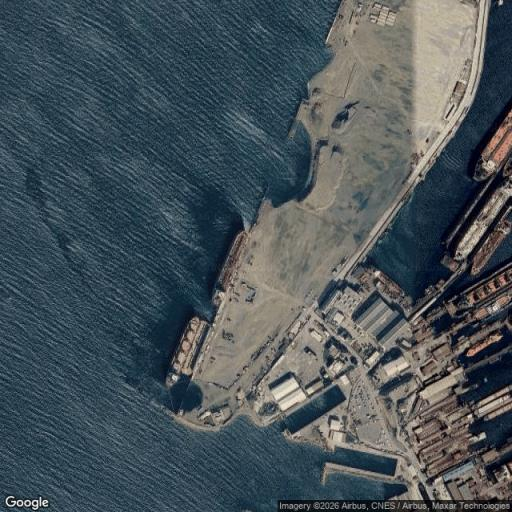ship: (455, 177, 511, 260), (212, 229, 249, 309), (166, 316, 207, 386), (474, 111, 511, 180), (471, 220, 511, 275), (459, 268, 511, 309), (472, 295, 511, 323), (472, 387, 510, 411), (466, 332, 502, 357), (474, 396, 511, 417), (484, 403, 511, 422), (503, 158, 511, 176)
